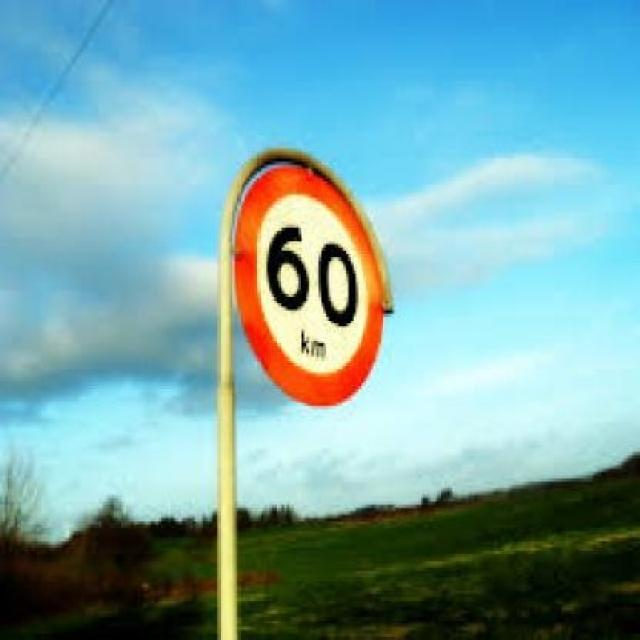forb_speed_over_60: (232, 172, 391, 413)
